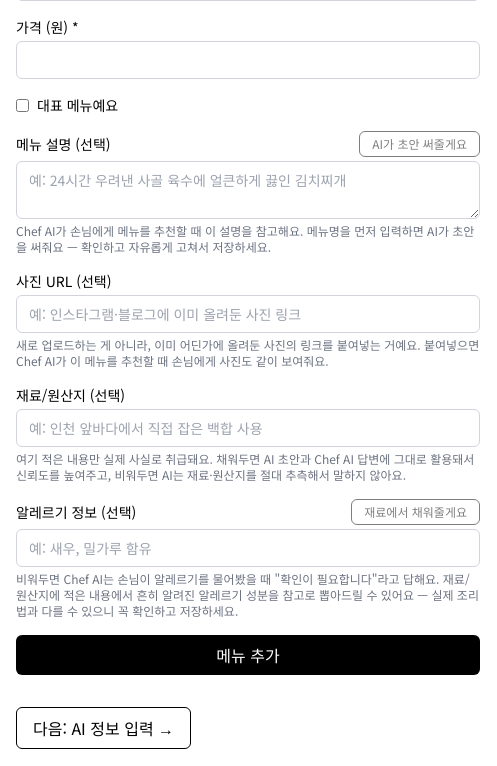
it: MenusPage (smoke) › '재료에서 채워줄게요'를 누르면 재료/원산지에서 알레르기 정보를 채운다
The image size is (497, 766).
(page scrolled)
Expected: the button "재료에서 채워줄게요" is disabled, [351,499,480,525]
Type "새우와 밀가루를 사용한 튀김" into the field labelled "재료/원산지" at coordinates (248, 428), box [16,409,480,447]
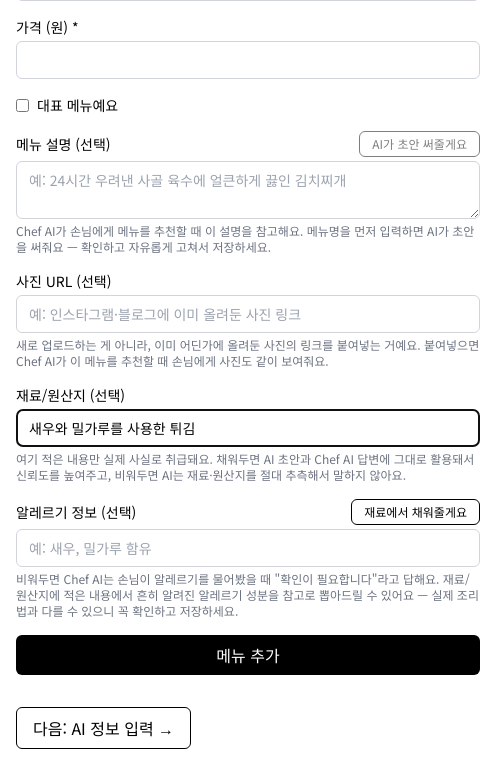
Result: the button "재료에서 채워줄게요" is enabled
Click the button "재료에서 채워줄게요" at coordinates (416, 512), box [351,499,480,525]
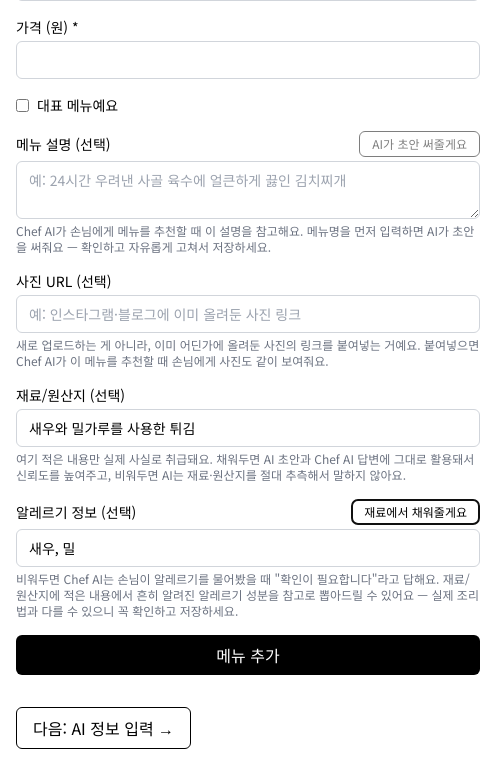
Result: the field labelled "알레르기 정보 (선택)" holds "새우, 밀" at [16,529,480,567]
